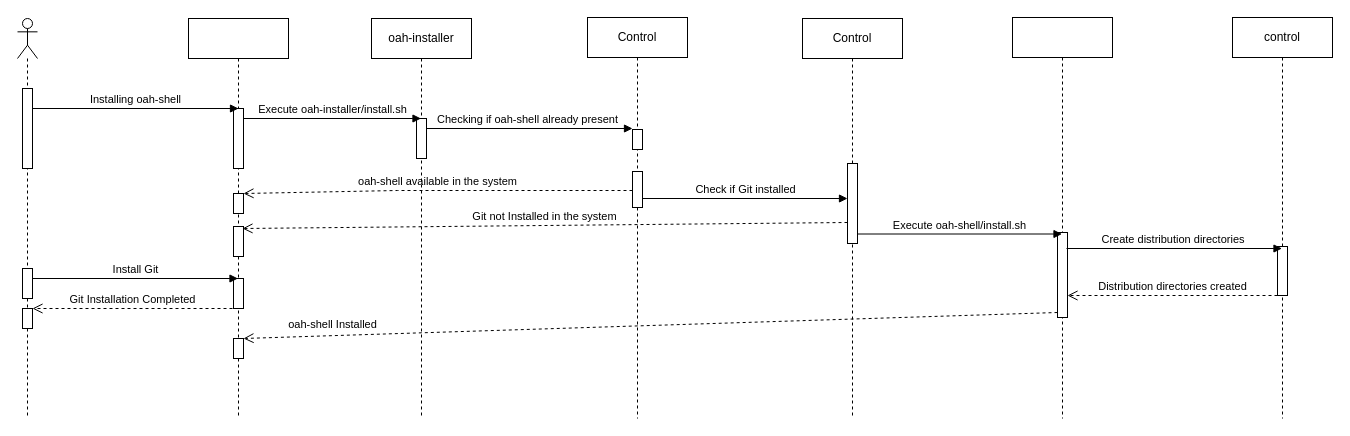
Some shapes in this 1350 by 436 pixel diagram are drawn without their labels. The shapes that lost their labels are listed below. From the top down, each one's box as (x1, y1, x2, y2) in pixels, then its label:
(188, 18, 288, 418): Terminal
(1012, 16, 1112, 418): oah-shell
